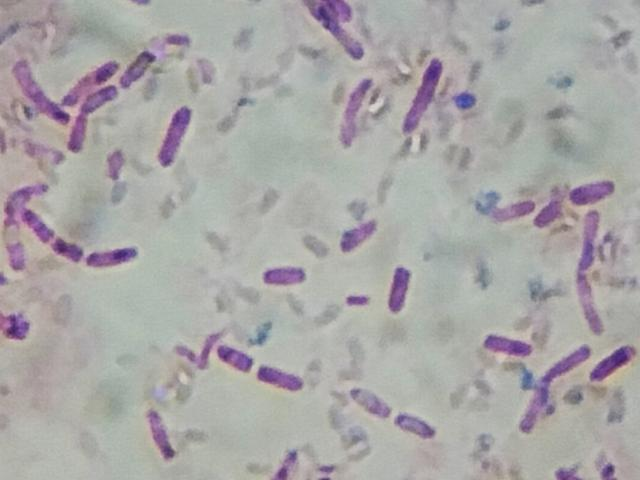E. coli: (401, 55, 443, 135), (313, 0, 368, 50), (143, 405, 188, 464), (16, 66, 63, 122), (339, 72, 370, 141), (261, 356, 310, 397), (568, 173, 624, 208), (163, 106, 195, 167), (575, 270, 608, 328), (479, 326, 535, 360), (80, 83, 132, 119), (516, 379, 545, 438), (595, 337, 631, 382), (333, 219, 384, 250), (86, 242, 151, 266), (385, 259, 411, 317), (258, 262, 310, 291), (545, 343, 589, 377), (5, 212, 30, 269), (578, 210, 607, 259), (213, 340, 254, 374), (123, 50, 158, 88), (488, 193, 534, 221), (396, 410, 439, 439), (32, 207, 65, 243), (77, 53, 121, 80), (536, 197, 568, 231), (12, 170, 42, 206), (349, 383, 383, 411), (55, 237, 91, 263), (69, 115, 92, 151)
